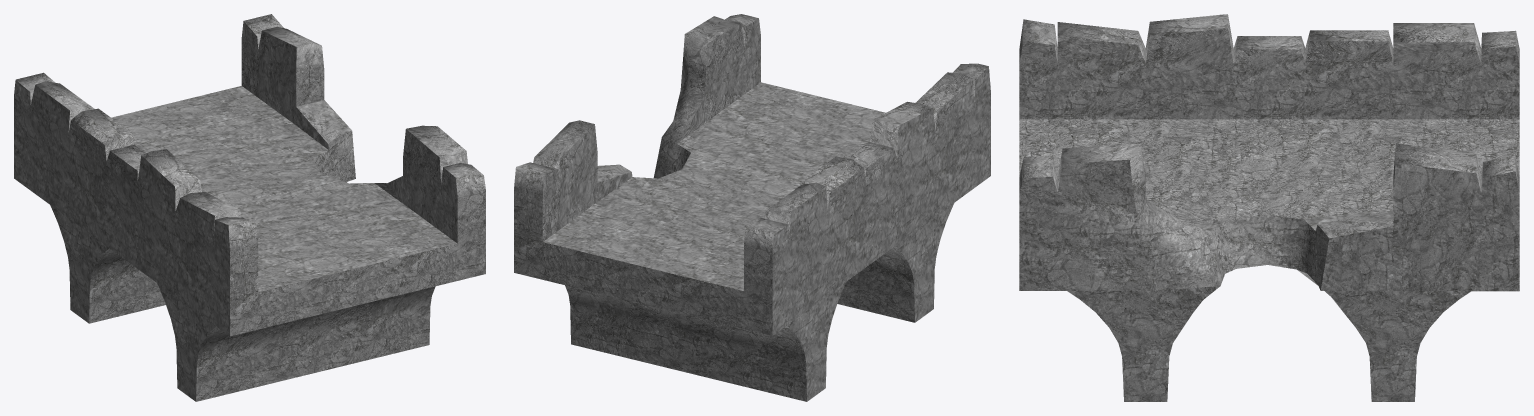
Rendered from materials_3_bridge_4.fbx.
The picture shows the model from 3 angles, left to right: view 1: azimuth 30°, elevation 25°; view 2: azimuth 150°, elevation 25°; view 3: azimuth 270°, elevation 25°; orthographic projection. The views are drawn at different scales.
Parts seen in each view (by area): view 1: materials_3_bridge_4; view 2: materials_3_bridge_4; view 3: materials_3_bridge_4.
Part boxes in pixels (x1,y1,x2,y2): materials_3_bridge_4: (14,14,485,401); materials_3_bridge_4: (514,14,990,401); materials_3_bridge_4: (1019,14,1519,401).
Bounding box in the file's own units: 300 × 244 × 438.
